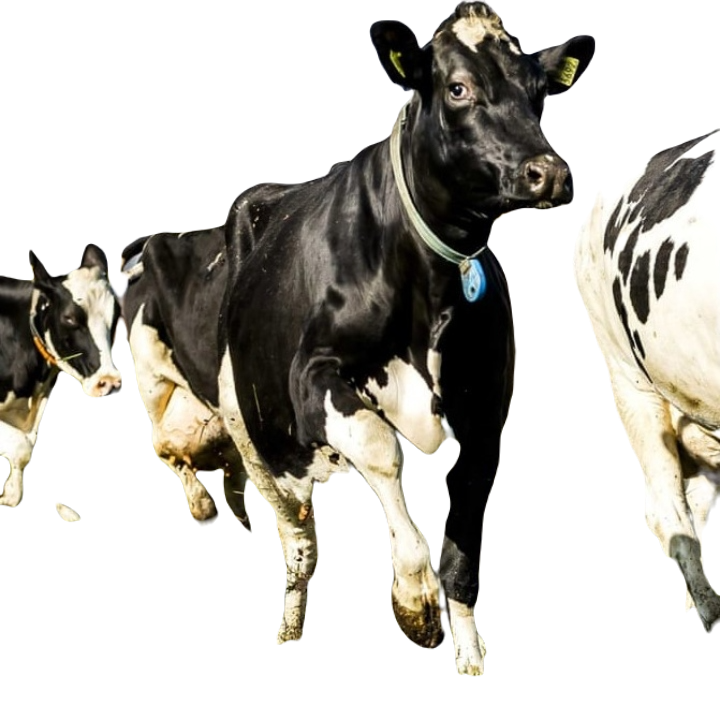Cow: (117, 0, 602, 673)
